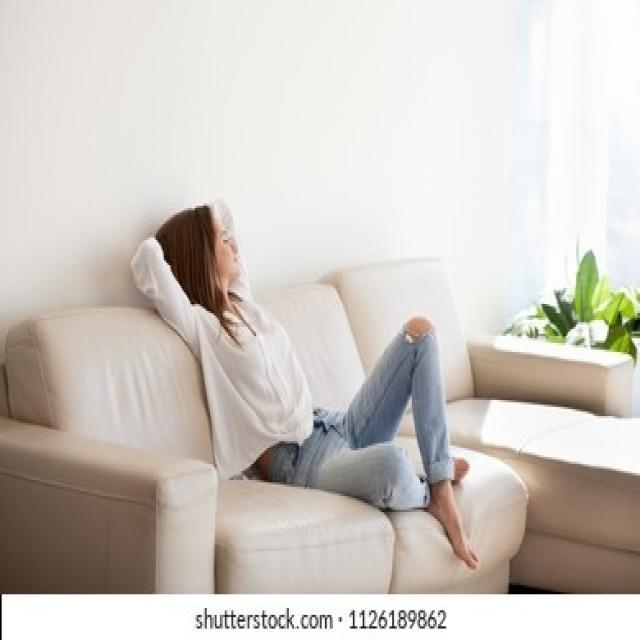sitting: (116, 199, 488, 571)
